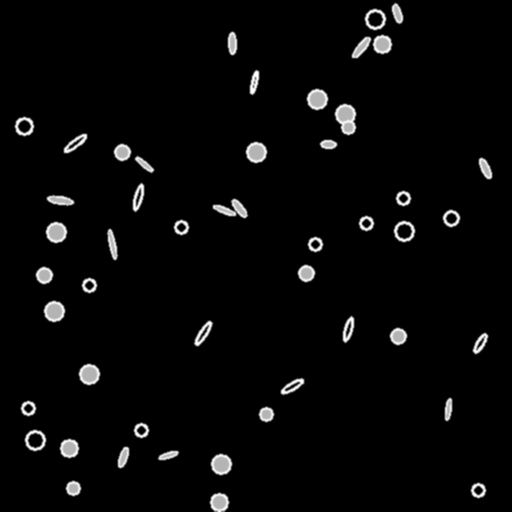pseudomonas: (62, 132, 88, 154), (193, 320, 213, 346), (351, 35, 371, 59), (280, 377, 304, 395), (341, 316, 355, 342), (131, 184, 145, 210), (230, 198, 248, 218), (472, 332, 488, 354), (116, 446, 130, 468), (478, 157, 492, 179), (107, 229, 117, 259), (135, 156, 153, 172), (212, 204, 236, 216), (48, 195, 72, 205), (391, 3, 403, 23), (249, 71, 259, 93), (159, 450, 177, 460), (444, 398, 452, 420), (320, 140, 336, 148), (229, 33, 235, 53)
synechocystis: (366, 10, 384, 28), (80, 365, 98, 383), (45, 302, 63, 320), (47, 223, 65, 241), (308, 90, 326, 108), (336, 105, 354, 123), (212, 455, 230, 473), (395, 222, 413, 240), (26, 431, 44, 449), (247, 143, 265, 161), (16, 118, 32, 134), (211, 494, 227, 510), (61, 440, 77, 456), (374, 36, 390, 52), (444, 211, 458, 225), (299, 266, 313, 280), (37, 268, 51, 282), (115, 145, 129, 159), (391, 329, 405, 343), (67, 482, 79, 494), (135, 424, 147, 436), (22, 402, 34, 414), (342, 121, 354, 133), (360, 217, 372, 229), (175, 221, 187, 233), (397, 192, 409, 204), (83, 279, 95, 291), (260, 408, 272, 420), (309, 238, 321, 250), (472, 484, 484, 496)
